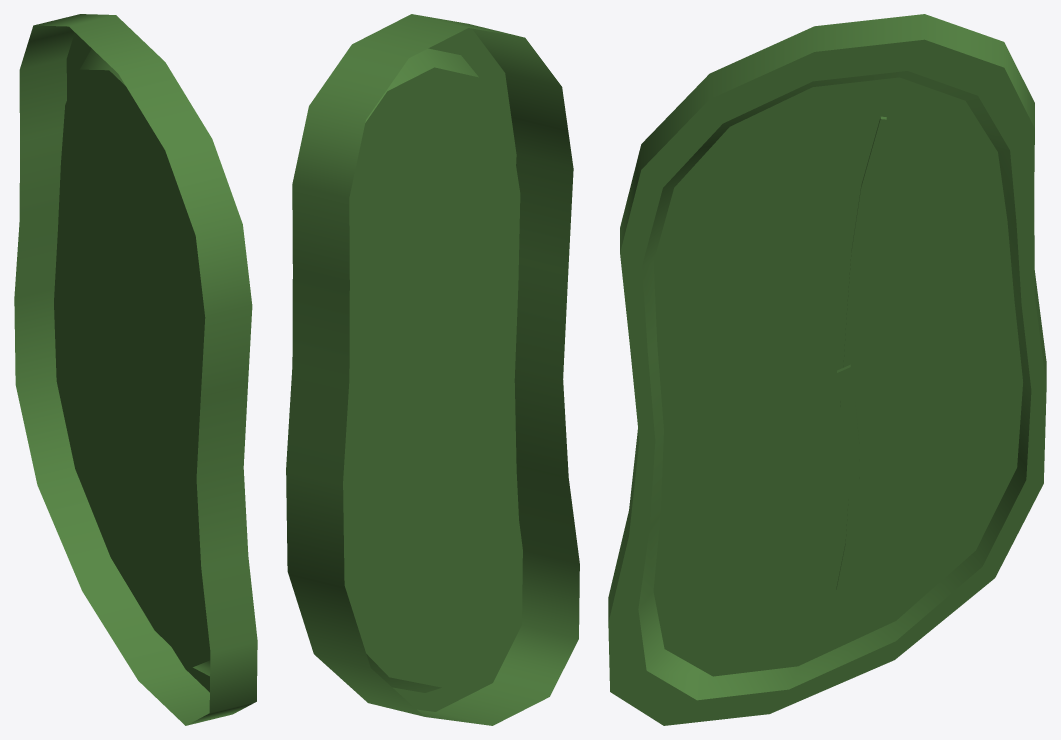
The model's file is Orologio distorto.fbx.
3 renders of one model, left to right at view 1: azimuth 30°, elevation 25°; view 2: azimuth 150°, elevation 25°; view 3: azimuth 270°, elevation 25°, orthographic. The views are drawn at different scales.
Parts seen in each view (by area): view 1: OrologioDistorto_low; view 2: OrologioDistorto_low; view 3: OrologioDistorto_low.
Part boxes in pixels (x1=…): OrologioDistorto_low: x1=14, y1=14, x2=257, y2=725; OrologioDistorto_low: x1=286, y1=14, x2=579, y2=725; OrologioDistorto_low: x1=608, y1=14, x2=1046, y2=725.
Size of the model in its own units: 12.42 by 154 by 89.41.
